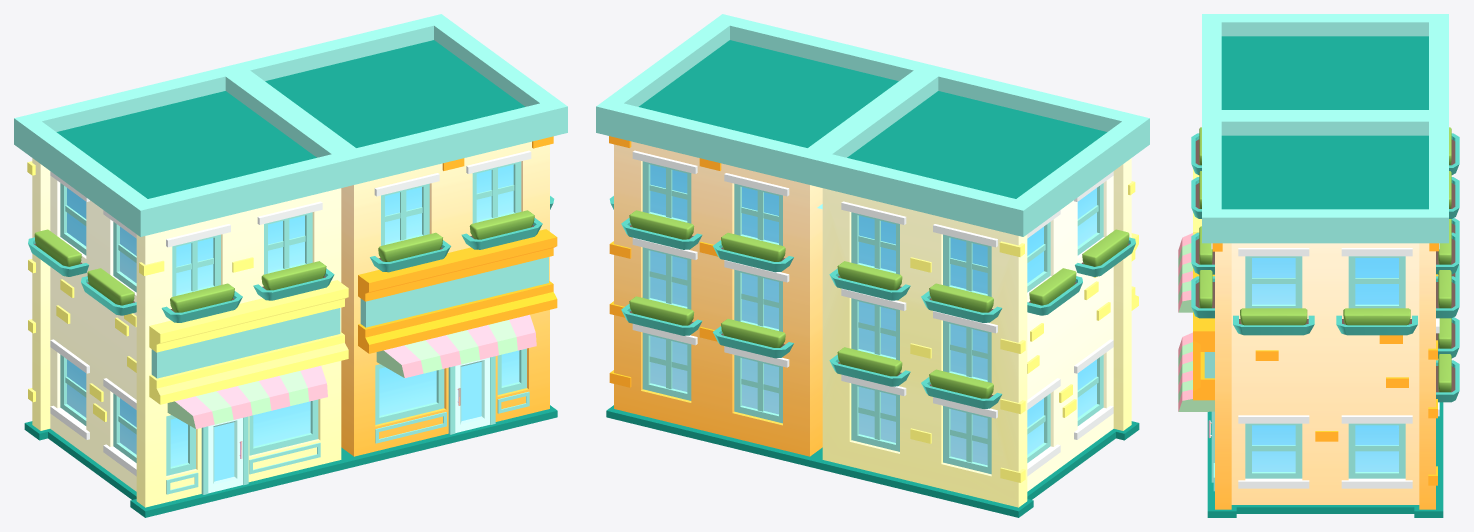
Rendered from city2-building-living-27.glb.
3 renders of one model, left to right at view 1: azimuth 30°, elevation 25°; view 2: azimuth 150°, elevation 25°; view 3: azimuth 270°, elevation 25°, orthographic. The views are drawn at different scales.
Parts seen in each view (by area): view 1: Building_Living_27; view 2: Building_Living_27; view 3: Building_Living_27.
Boxes of the visible parts, x1,y1,x2,y2 form: Building_Living_27: (14, 14, 567, 517); Building_Living_27: (596, 14, 1149, 517); Building_Living_27: (1178, 14, 1459, 517).
Size of the model in its own units: 13.81 by 9.32 by 7.81.
Materials: 1 (1 with a texture image).
